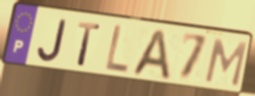7: (180, 31, 208, 84)
A: (129, 28, 172, 83)
J: (35, 18, 69, 64)
L: (103, 23, 131, 76)
M: (202, 37, 250, 89)
T: (76, 20, 102, 69)
